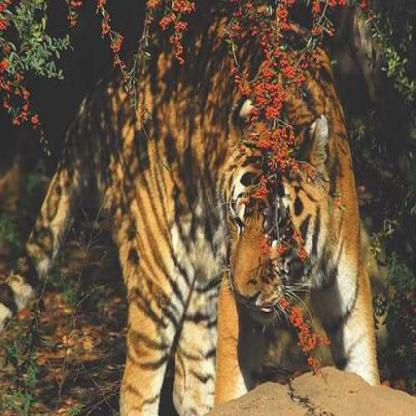Tiger: (23, 29, 376, 391)
